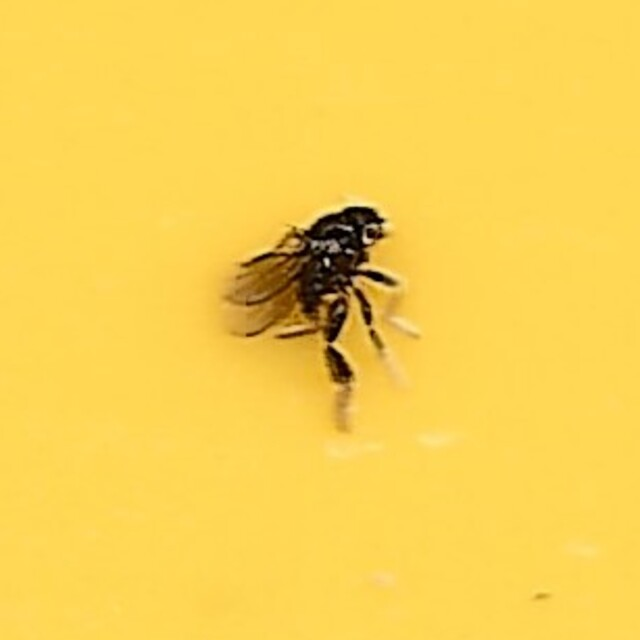Brachycera: (208, 197, 432, 443)
